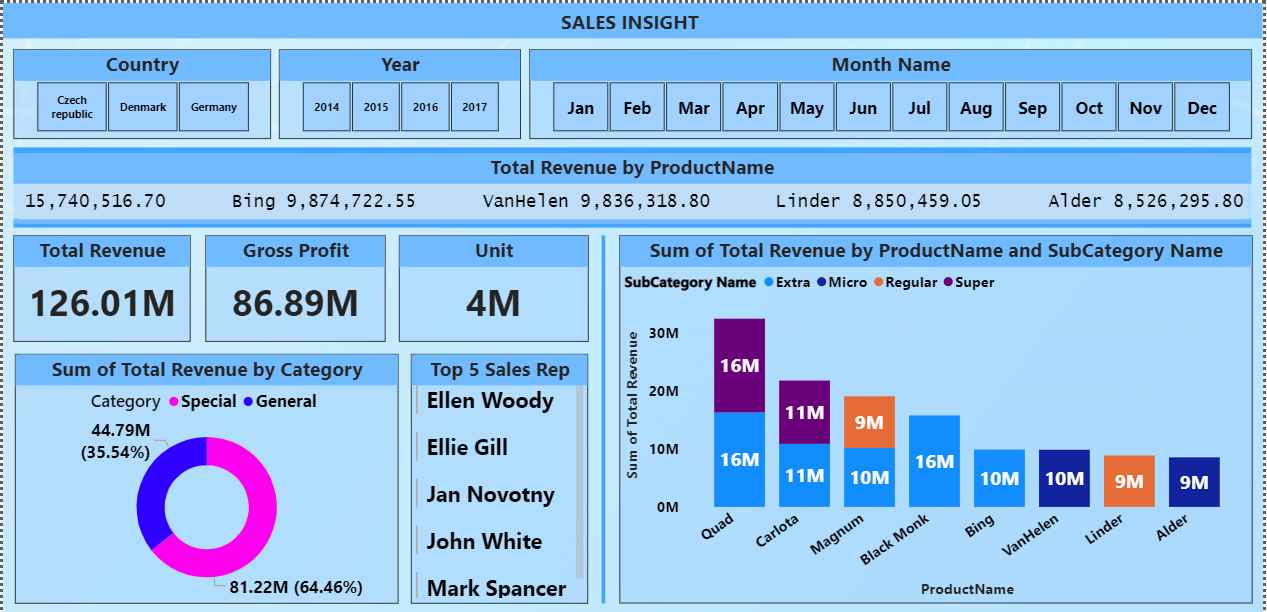

This screenshot's page, from the dashboard's own definition file:
{"tool":"powerbi","page":{"name":"Page 1","canvas":[1400,1400],"ordinal":0},"visuals":[{"type":"textbox","title":"Sales Report","box":[0,0,1399.4,39.3],"z":0},{"type":"slicer","title":"Country","fields":{"Values":["Geography.Country"]},"box":[12,51.3,285.7,99.2],"z":1000},{"type":"slicer","title":"Year","fields":{"Values":["DateMaster.Year"]},"box":[306.2,51.3,268.6,99.2],"z":2000},{"type":"slicer","title":"Month Name","fields":{"Values":["DateMaster.Month Name"]},"box":[585.1,51.3,802.4,99.2],"z":3000},{"type":"shape","box":[12,150.5,1375.5,30.8],"z":4000},{"type":"shape","box":[12,229.2,1375.5,29.1],"z":5000},{"type":"card","title":"Total Revenue","fields":{"Values":["Sales.Total Revenue"]},"box":[12,258.3,196.7,118],"z":6000},{"type":"card","title":"Gross Profit","fields":{"Values":["Sales.Gross Profit"]},"box":[225.8,258.3,200.2,118],"z":7000},{"type":"card","title":"Unit","fields":{"Values":["Sales.Units"]},"box":[439.7,258.3,210.4,118],"z":8000},{"type":"shape","box":[650.1,258.3,34.2,408.9],"z":9000},{"type":"pieChart","fields":{"Category":["SubCategory.SubCategory Name"],"Y":["Sales.Total Revenue"]},"box":[13.7,679.2,426,347.3],"z":10000},{"type":"donutChart","fields":{"Y":["Sales.Total Revenue"],"Category":["Categories.Category"]},"box":[13.7,390.1,426,277.1],"z":11000},{"type":"multiRowCard","title":"Top 5 Sales Rep","fields":{"Values":["Sales rep.Sales Rep Name"]},"box":[453.4,390.1,196.7,277.1],"z":12000},{"type":"ScrollingTextVisual1448795304508","title":"Total Revenue by ProductName","fields":{"Category":["ProductDetails.ProductName"],"Measure Absolute":["Sales.Total Revenue"]},"box":[12,165.9,1375.5,78.7],"z":13000},{"type":"waterfallChart","fields":{"Category":["DateMaster.Year"],"Breakdown":["ProductDetails.ProductName"],"Y":["Sales.Total Revenue"]},"box":[453.4,679.2,934.1,347.3],"z":14000},{"type":"columnChart","fields":{"Category":["ProductDetails.ProductName"],"Y":["Sales.Total Revenue"],"Series":["SubCategory.SubCategory Name"]},"box":[684.3,258.3,703.1,408.9],"z":15000},{"type":"shape","box":[13.7,1026.5,1375.5,30.8],"z":16000},{"type":"lineChart","fields":{"Category":["DateMaster.Quarter"],"Y":["Sales.Total Revenue"]},"box":[13.7,1057.3,670.6,333.6],"z":17000},{"type":"lineChart","fields":{"Category":["DateMaster.Month Name"],"Y":["Sales.Gross Profit"]},"box":[701.4,1057.3,686,333.6],"z":18000}]}

Visuals, with their boxes on the page's 1400x1400 design canvas (x1, y1, x2, y2). These are canvas units, not pixel positions in the 1267x612 screenshot, which may show the page scaled, cropped or inside an application window:
"Sales Report" textbox: [left=0, top=0, right=1399, bottom=39]
"Country" slicer: [left=12, top=51, right=298, bottom=150]
"Year" slicer: [left=306, top=51, right=575, bottom=150]
"Month Name" slicer: [left=585, top=51, right=1388, bottom=150]
shape: [left=12, top=150, right=1388, bottom=181]
shape: [left=12, top=229, right=1388, bottom=258]
"Total Revenue" card: [left=12, top=258, right=209, bottom=376]
"Gross Profit" card: [left=226, top=258, right=426, bottom=376]
"Unit" card: [left=440, top=258, right=650, bottom=376]
shape: [left=650, top=258, right=684, bottom=667]
pieChart - SubCategory.SubCategory Name x Sales.Total Revenue: [left=14, top=679, right=440, bottom=1026]
donutChart - Sales.Total Revenue x Categories.Category: [left=14, top=390, right=440, bottom=667]
"Top 5 Sales Rep" multiRowCard: [left=453, top=390, right=650, bottom=667]
"Total Revenue by ProductName" ScrollingTextVisual1448795304508: [left=12, top=166, right=1388, bottom=245]
waterfallChart - DateMaster.Year x ProductDetails.ProductName: [left=453, top=679, right=1388, bottom=1026]
columnChart - ProductDetails.ProductName x Sales.Total Revenue: [left=684, top=258, right=1387, bottom=667]
shape: [left=14, top=1026, right=1389, bottom=1057]
lineChart - DateMaster.Quarter x Sales.Total Revenue: [left=14, top=1057, right=684, bottom=1391]
lineChart - DateMaster.Month Name x Sales.Gross Profit: [left=701, top=1057, right=1387, bottom=1391]
